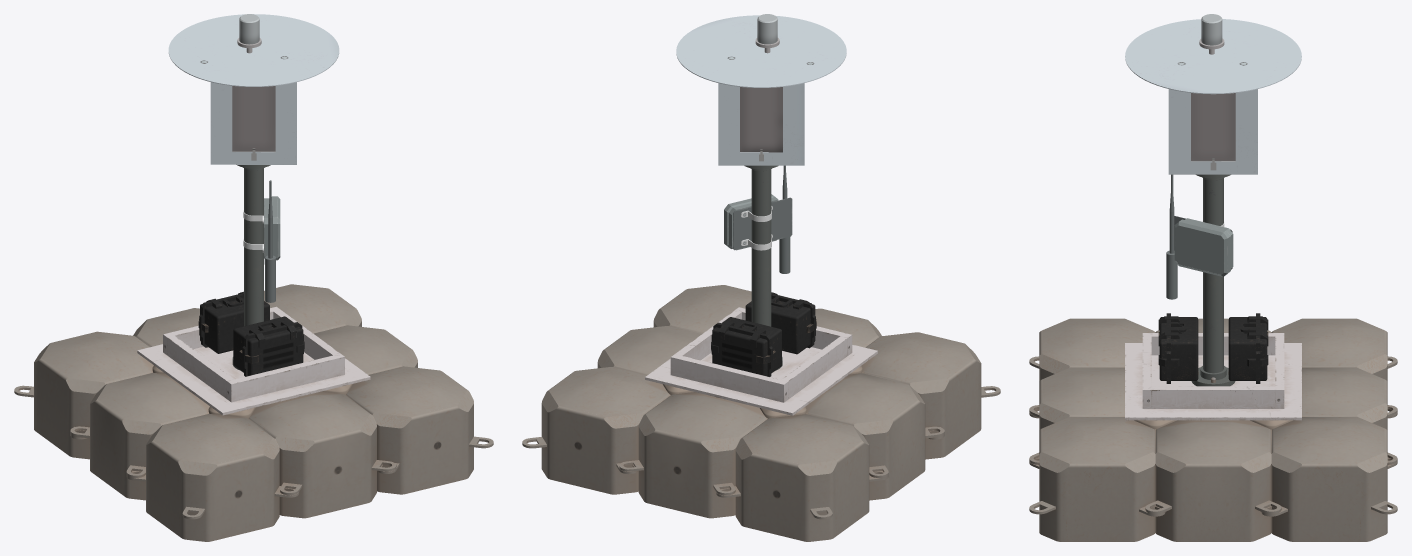
The model's file is robotx_light_buoy.dae.
3 views of the same model, side by side, from view 1: azimuth 30°, elevation 25°; view 2: azimuth 150°, elevation 25°; view 3: azimuth 270°, elevation 25° (orthographic). The views are drawn at different scales.
Parts seen in each view (by area): view 1: Robotx; view 2: Robotx; view 3: Robotx.
Part boxes in pixels (x1,y1,x2,y2): Robotx: [14, 14, 493, 541]; Robotx: [522, 14, 1000, 541]; Robotx: [1029, 14, 1397, 541].
Size of the model in its own units: 1.59 by 1.59 by 2.13.
Materials: 1 (1 with a texture image).
